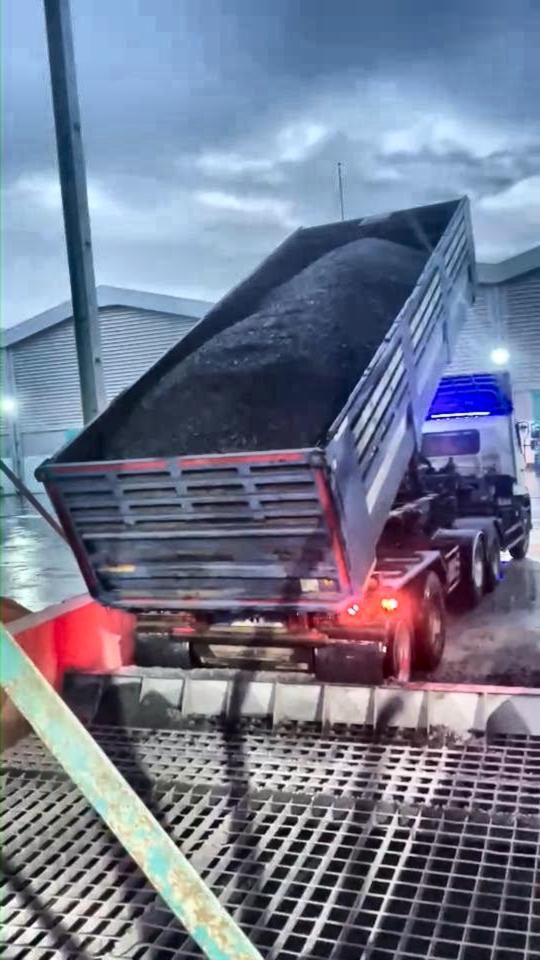gravel: (105, 239, 427, 459)
